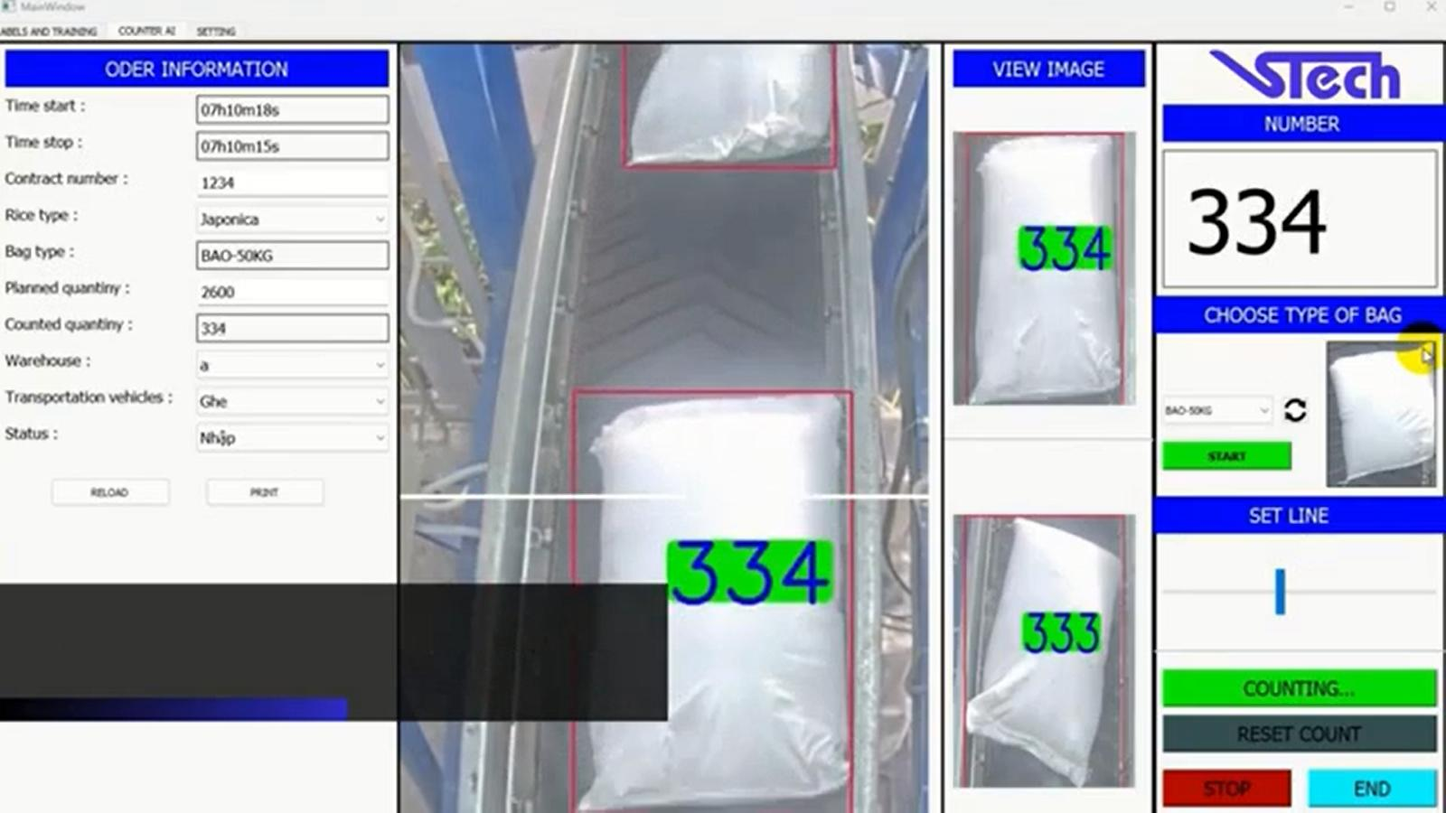rice-bag: (579, 396, 849, 812), (964, 136, 1122, 404), (966, 519, 1117, 786)
